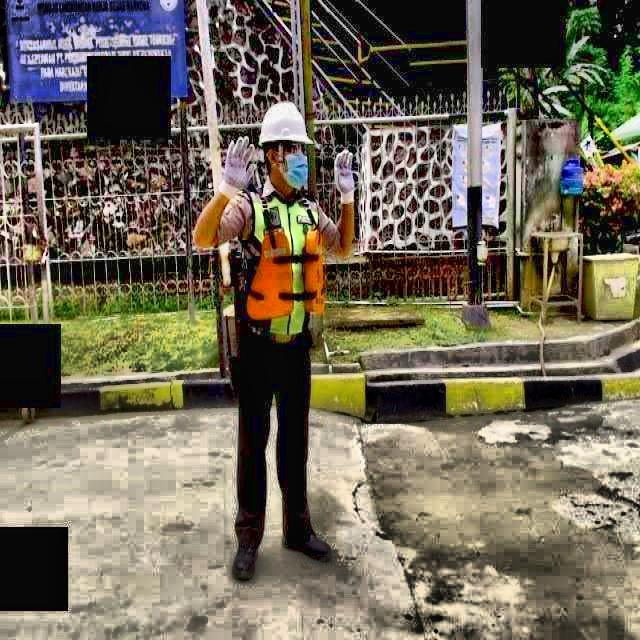safety_helmet: (256, 99, 317, 153)
safety_jacket: (229, 188, 328, 346)
